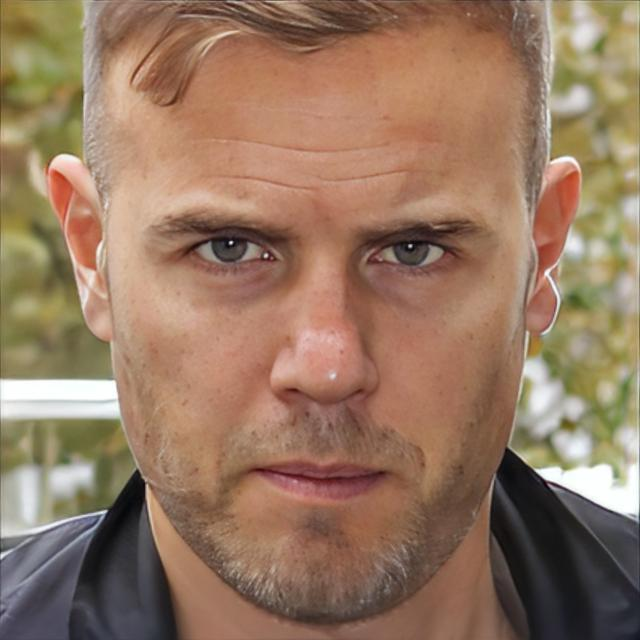anger: (110, 58, 526, 628)
